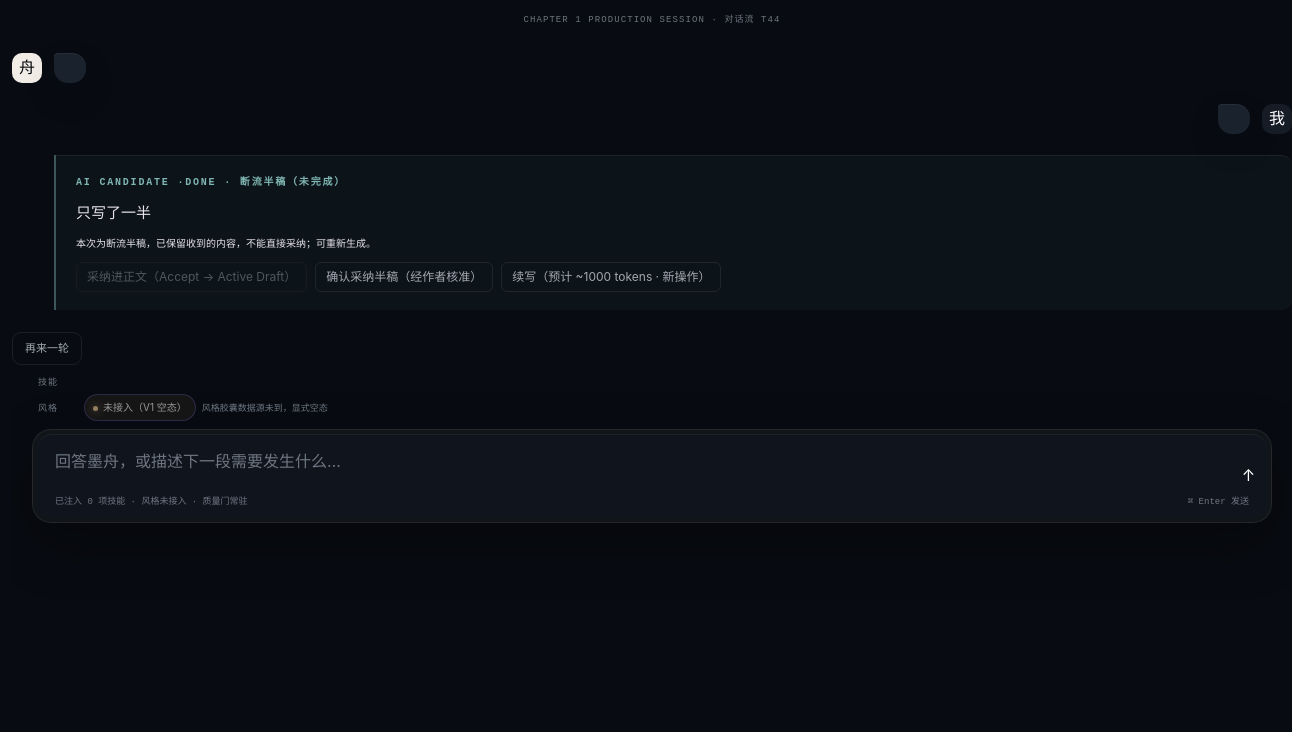
it: DialogueStream · 草稿终帧诚实性 › 完整成功：可以说完成，但正文仍未进小说——候选待采纳
In the text box named "写作指令": (645, 466) [49,444,1242,486], type "继续写"
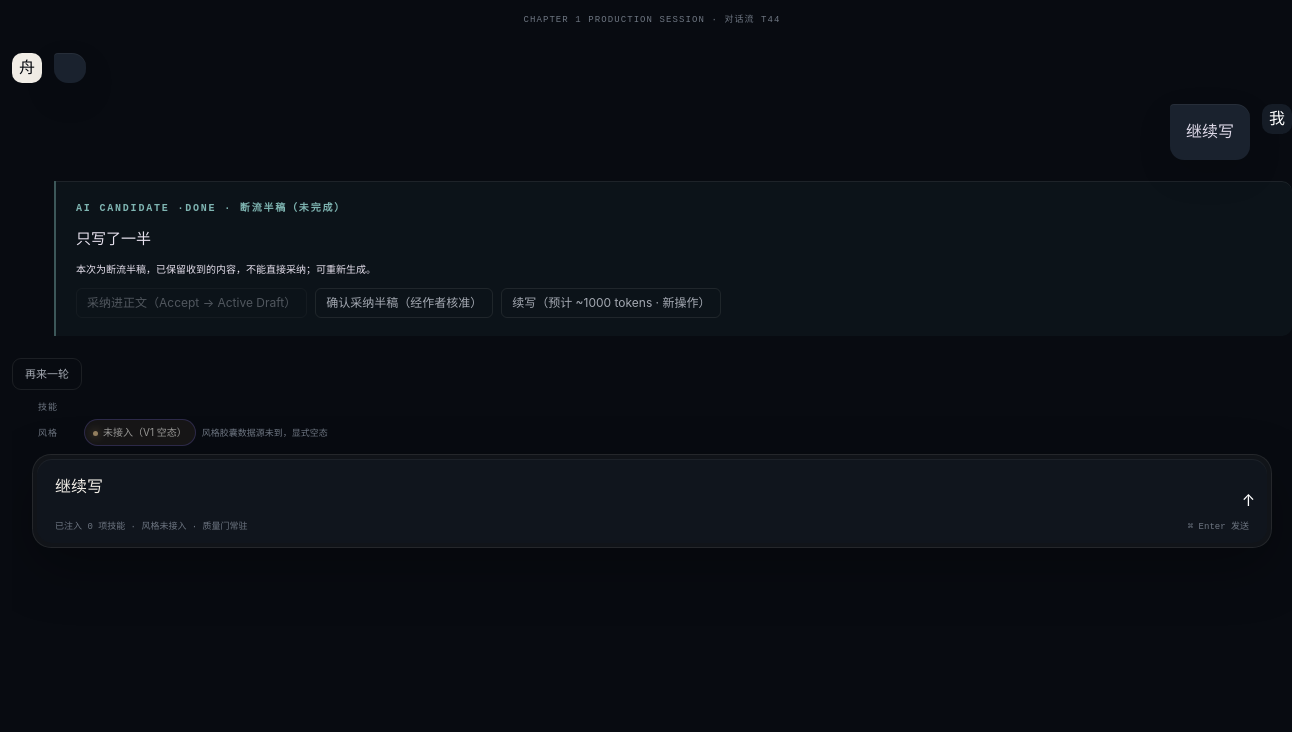
Click the button named "发送": (1248, 500) [1242,488,1255,512]
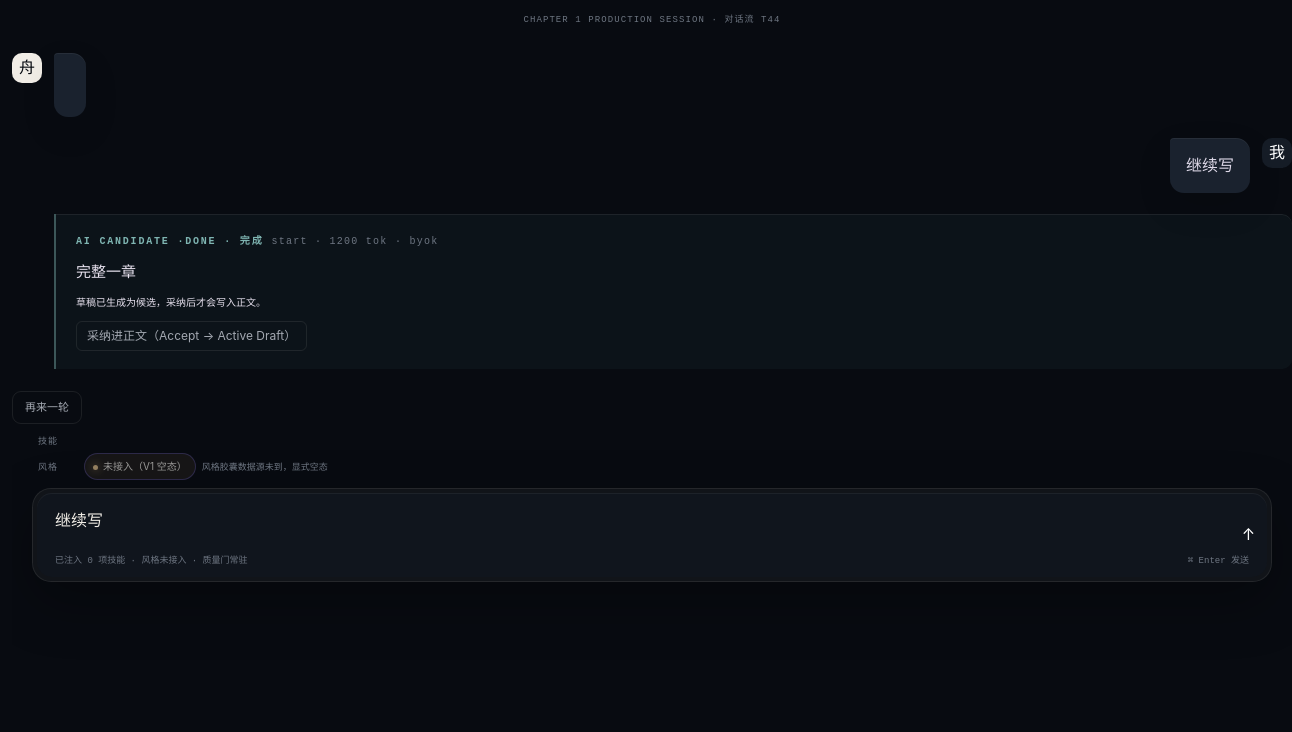
Expected: the element with test id "draft-slice" shows "完整一章", [76,264,136,280]
Expected: the element with test id "draft-slice" shows "DONE · 完成", [185,236,263,247]
